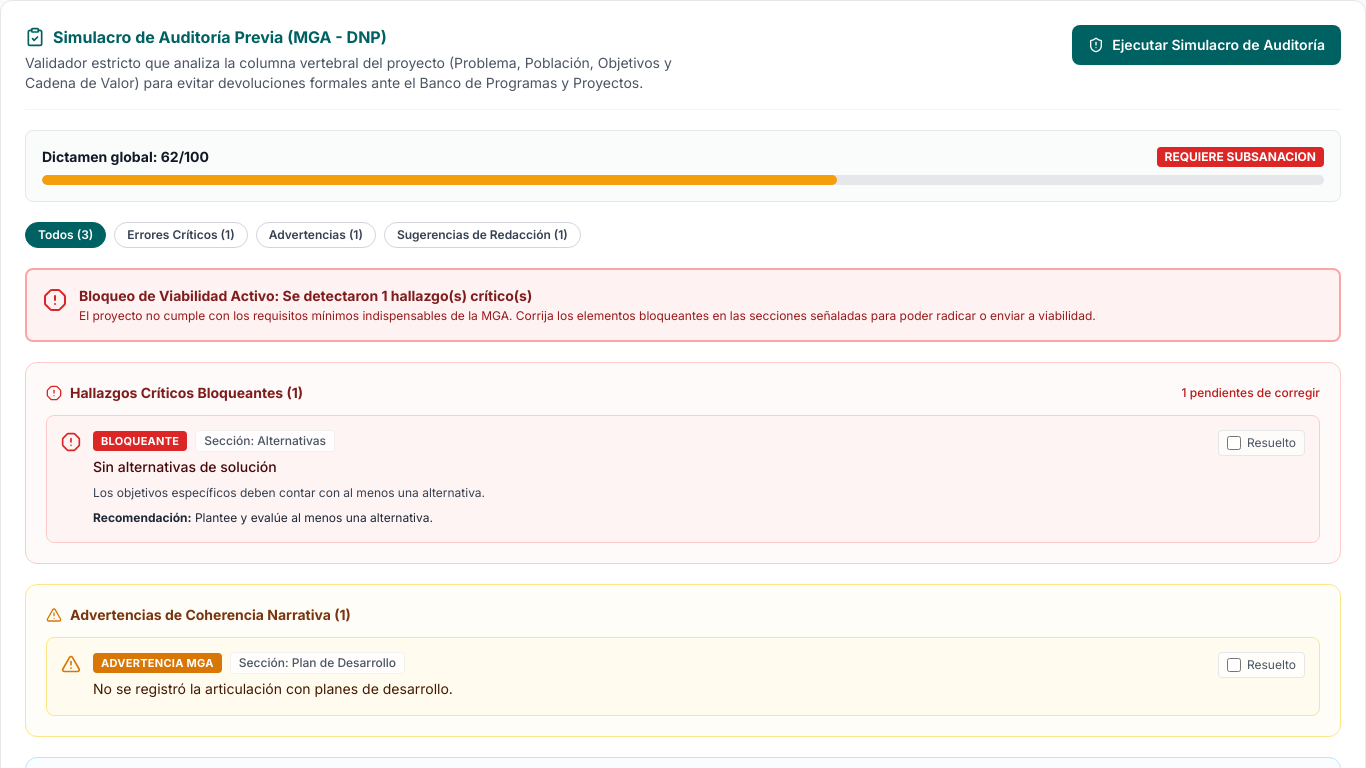
FormulationAuditPanel & MGA Strict Audit › holistic audit panel and deep-linking › filters findings by severity
What coordinates should you click on to do the following:
click the button "Sugerencias de Redacción (1)"
I would click on:
 (482, 235)
Its box is [384,222,581,248].
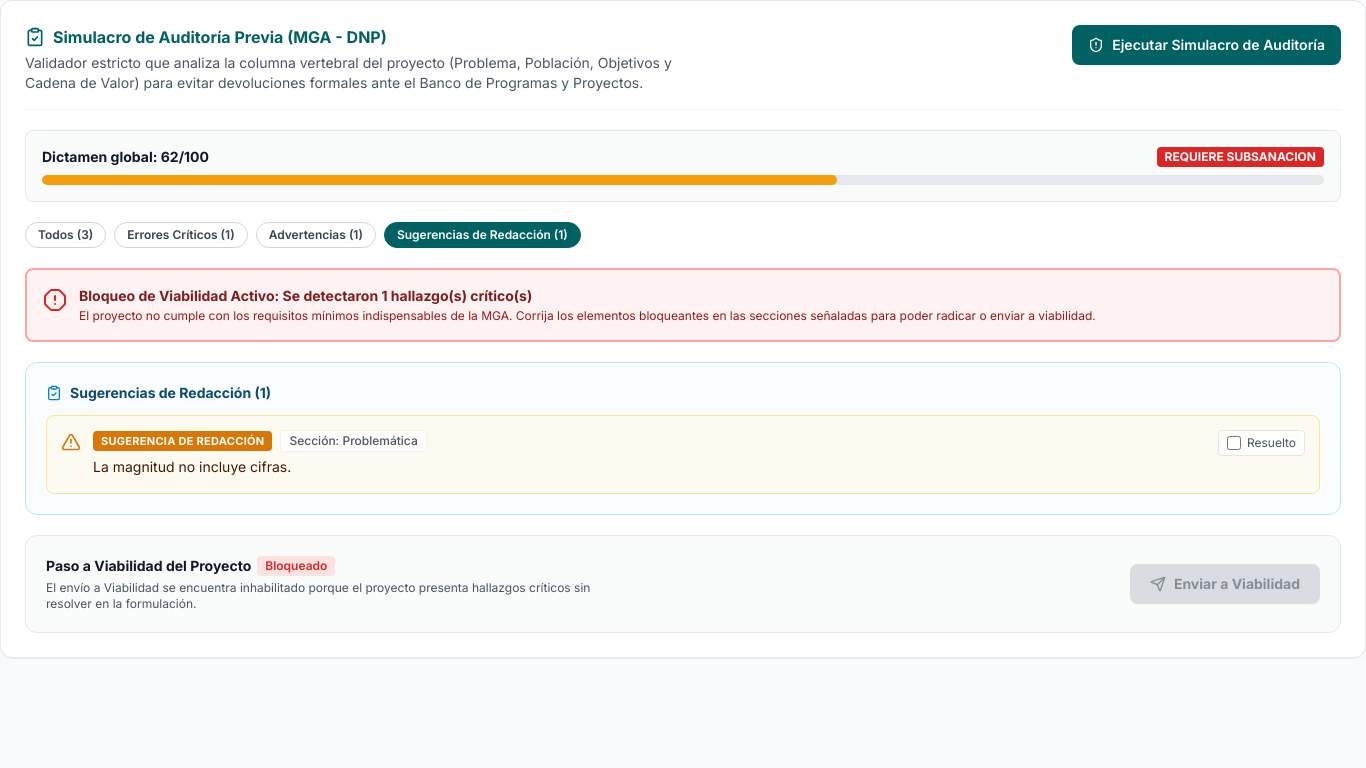
Expected: the text "La magnitud no incluye cifras." is shown, [93,458,291,475]
Expected: the text "Sin alternativas de solución" is gone
